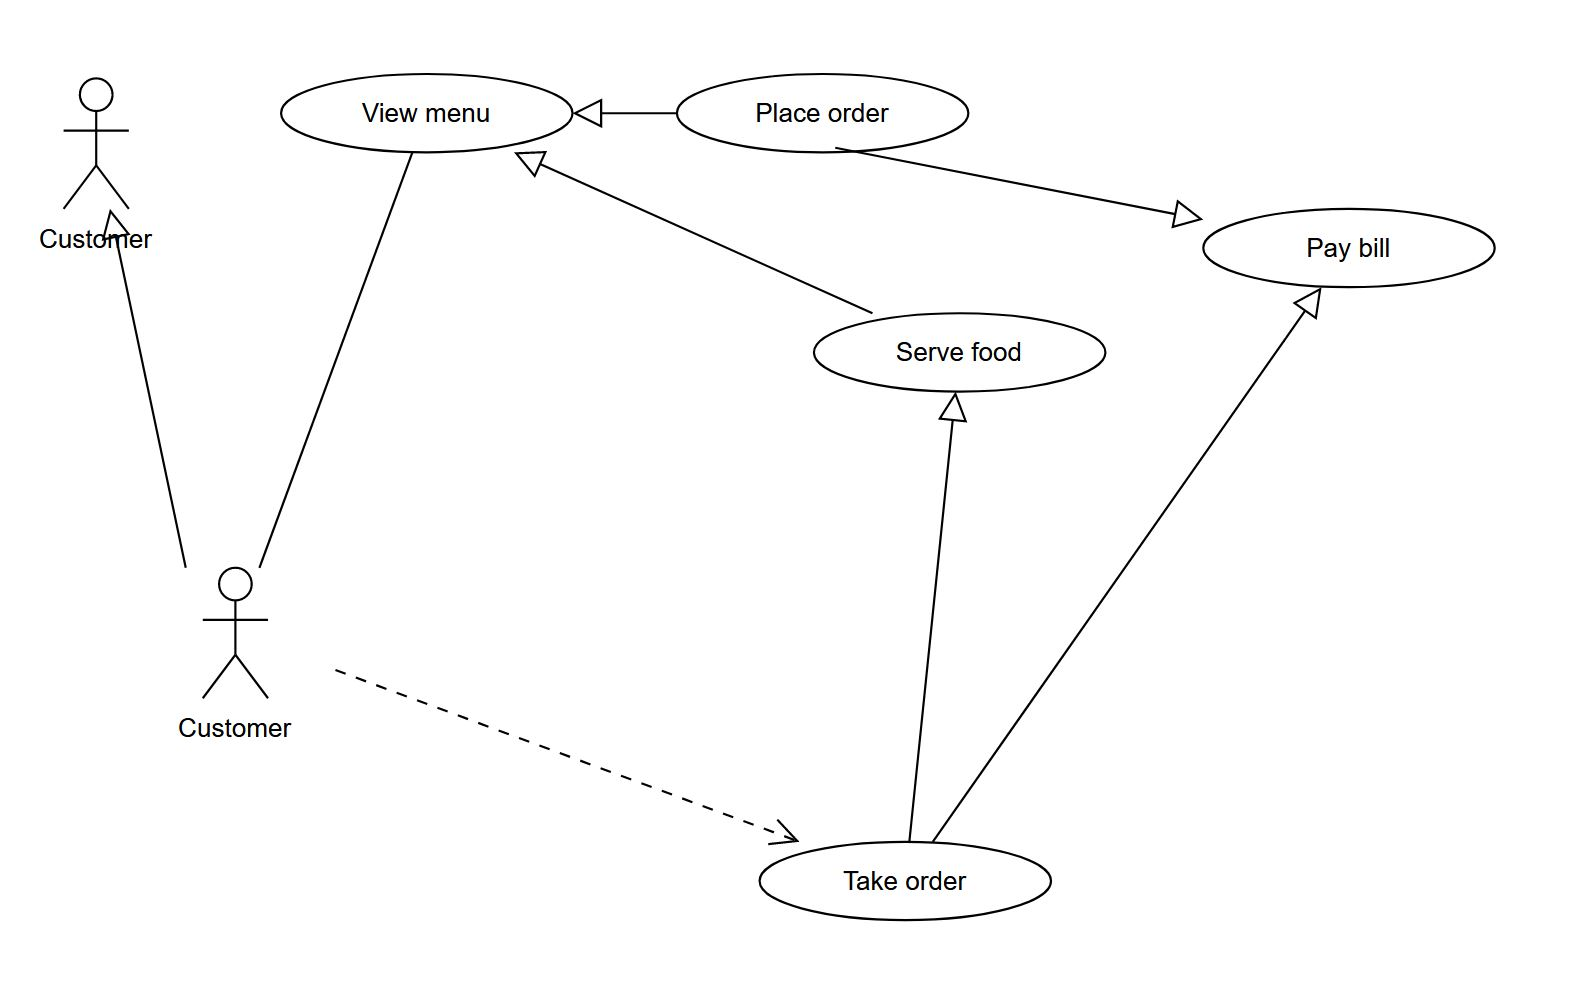actor: (60, 74, 131, 211), (199, 568, 272, 699)
association: (331, 664, 800, 846), (258, 152, 414, 570)
generalization: (931, 285, 1325, 845), (512, 148, 868, 313), (832, 146, 1203, 227), (104, 211, 186, 570), (908, 391, 969, 841), (573, 99, 676, 125)
text: (730, 94, 895, 129), (344, 100, 507, 129), (843, 862, 969, 900), (890, 338, 1027, 372), (33, 221, 161, 257), (174, 708, 291, 741), (1300, 231, 1398, 266)
use_case: (676, 73, 970, 157), (758, 840, 1054, 922), (1202, 209, 1495, 290), (277, 72, 576, 150), (814, 312, 1108, 391)
